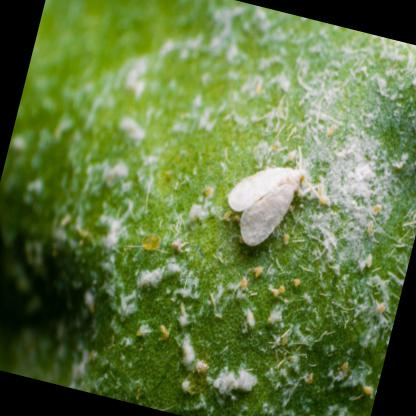whitefly: (229, 165, 304, 243)
